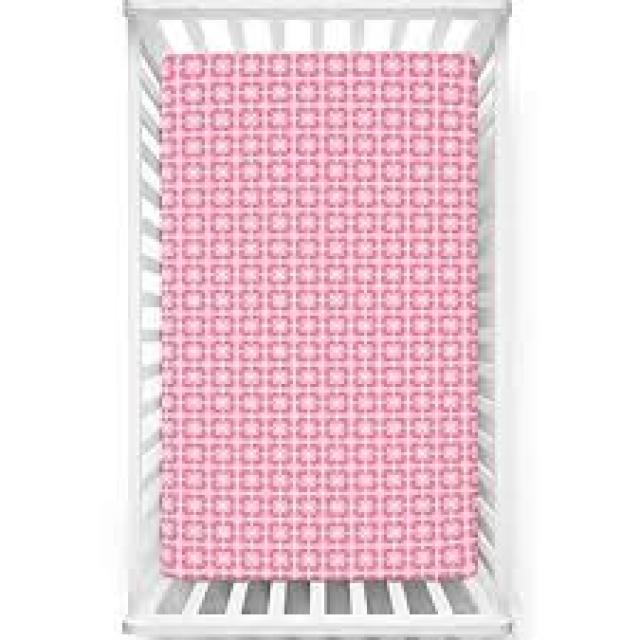crib: (116, 0, 518, 637)
